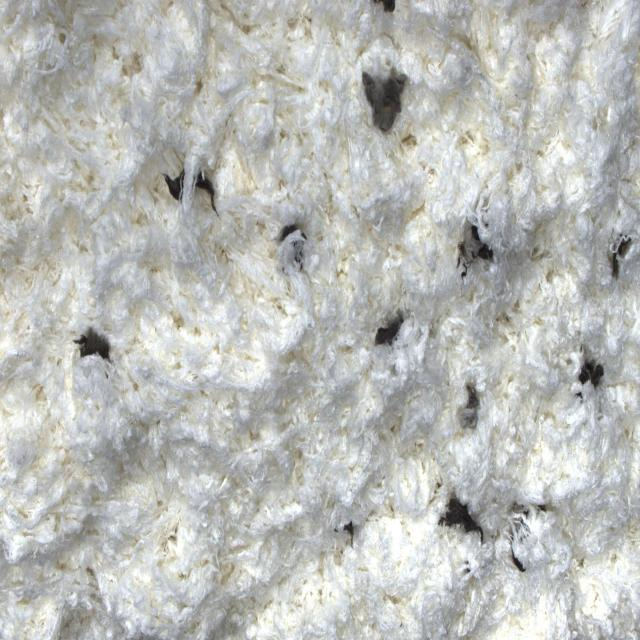dust: (438, 195, 505, 317), (425, 461, 490, 583), (443, 348, 496, 454), (562, 325, 613, 429), (272, 190, 318, 298), (355, 62, 416, 139), (363, 286, 411, 383), (593, 212, 639, 294), (156, 145, 196, 225), (70, 319, 115, 373), (193, 163, 223, 221), (508, 534, 536, 596), (501, 502, 550, 530), (341, 516, 361, 553), (369, 0, 403, 17)
